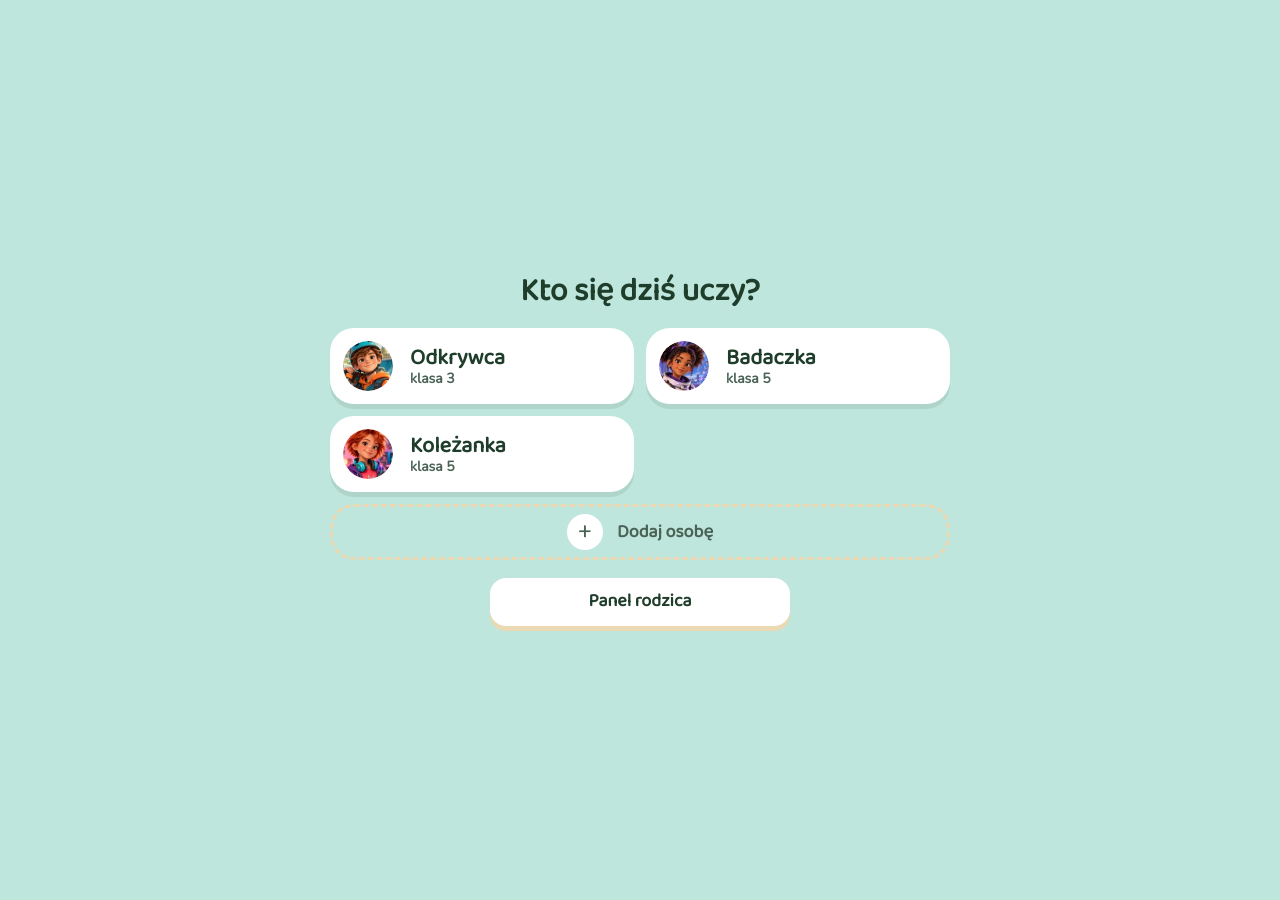
historia i wejście rodzica › z wyboru profilu otwiera PIN rodzica i wraca do wyboru, bez wybierania dziecka
Step 1. Click the button "Panel rodzica" → (640, 602), box [490,578,790,626]
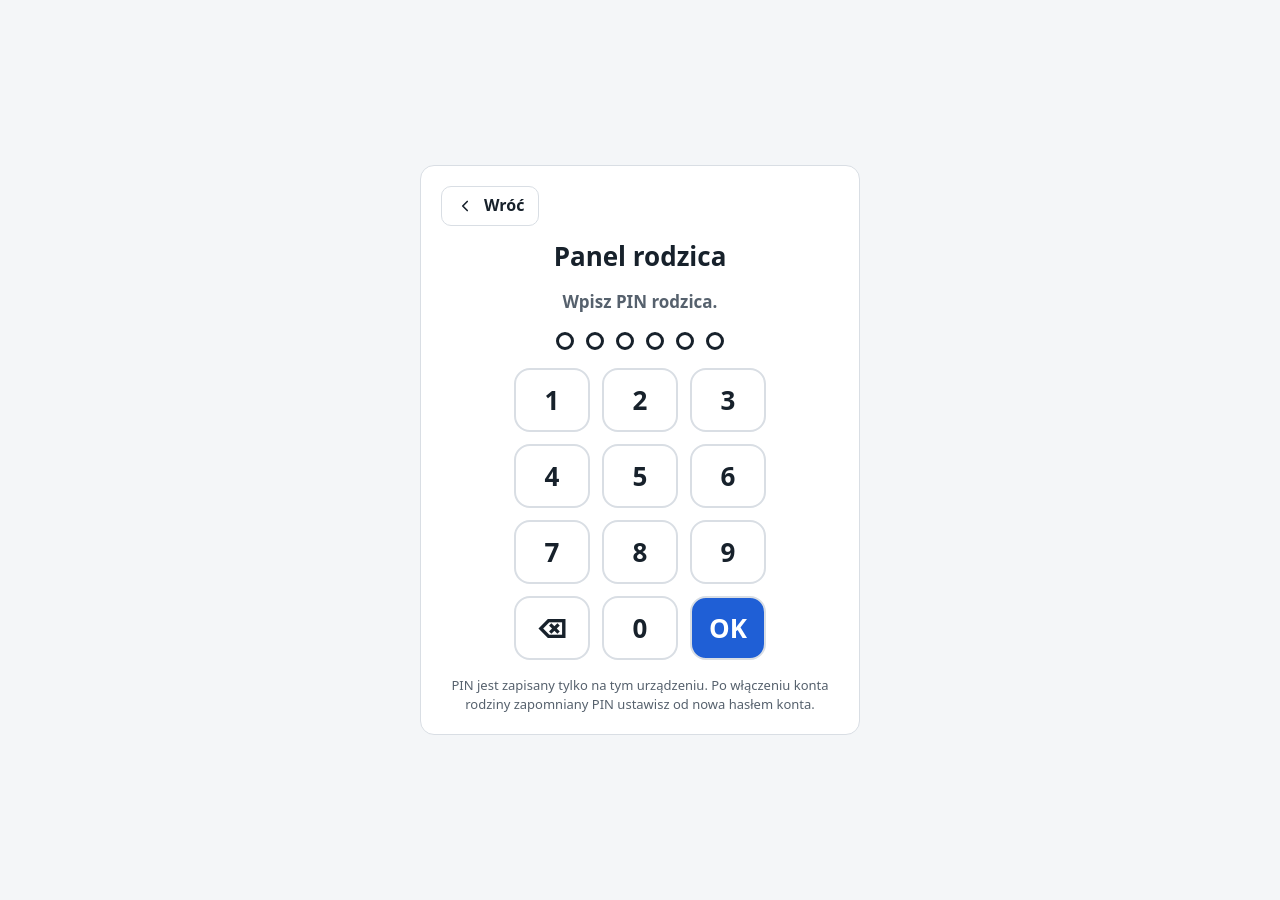
Result: the element showing "1 2 3 4 5 6 7 8 9 ⌫ 0 OK" is shown at [514,368,766,660]
Step 2. Click the button "Wróć" → (490, 206), box [441,186,539,226]
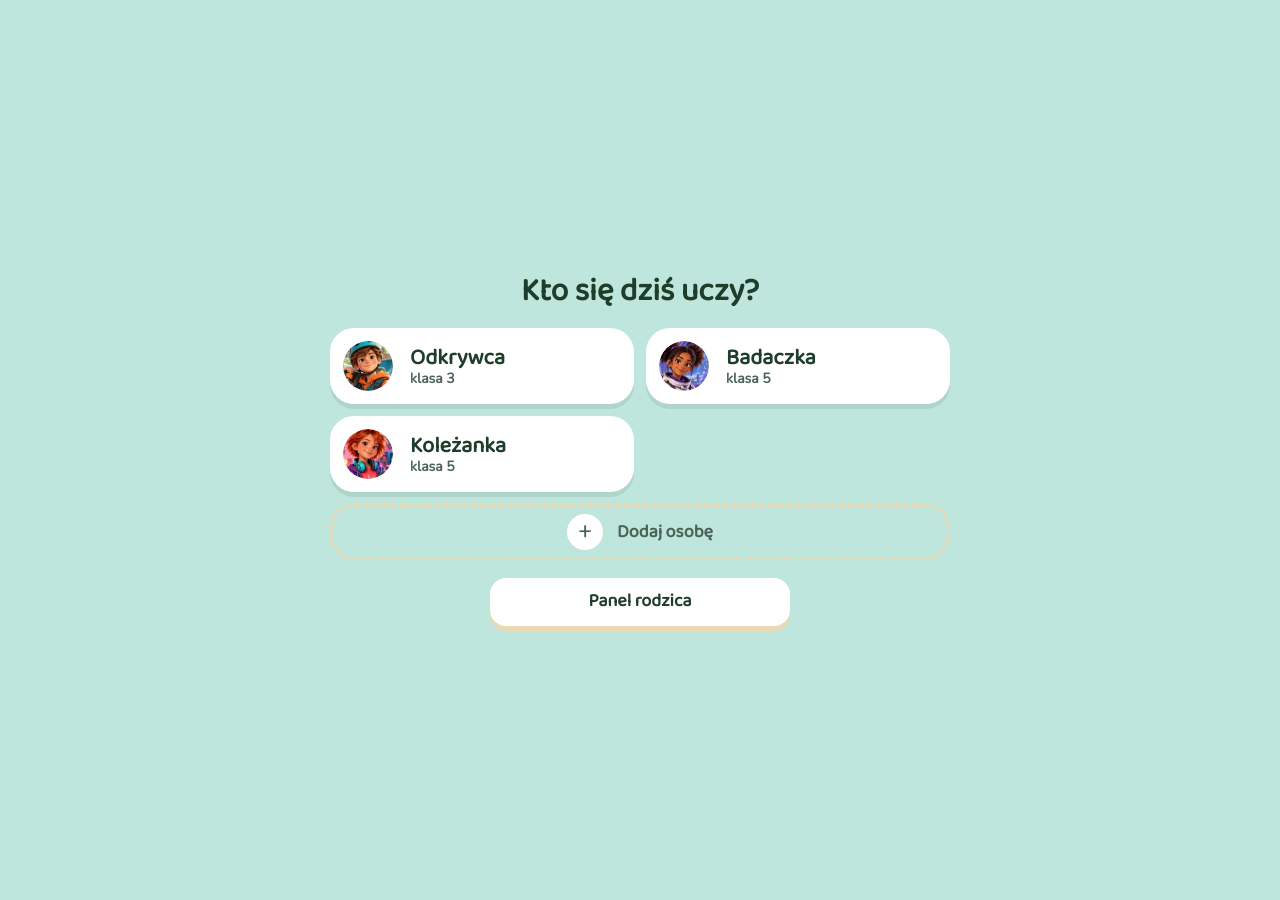
Result: the text "Kto się dziś uczy?" is shown at [521,266,759,317]
